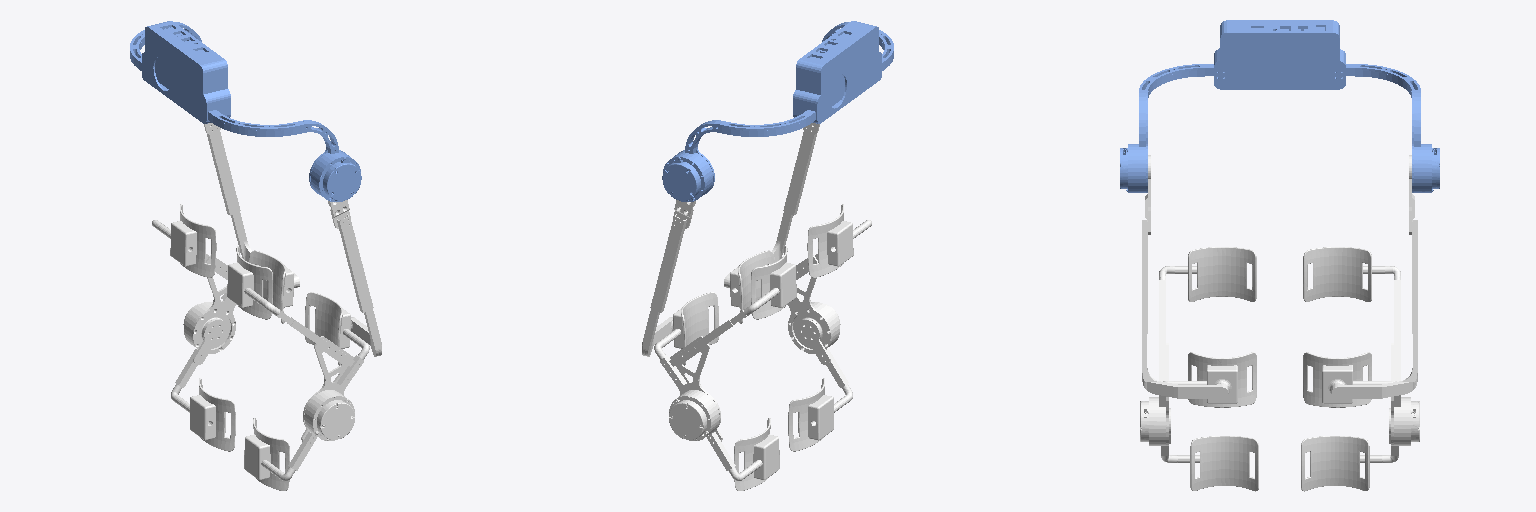
URDF robot description (G-exo):
<?xml version="1.0" encoding="utf-8"?>
<!-- This URDF was automatically created by SolidWorks to URDF Exporter! Originally created by Stephen Brawner (brawner@gmail.com) 
     Commit Version: 1.6.0-4-g7f85cfe  Build Version: 1.6.7995.38578
     For more information, please see http://wiki.ros.org/sw_urdf_exporter -->
<robot
  name="G-exo">
  <link
    name="base_link">
    <inertial>
      <origin
        xyz="0.0487751460332164 -0.00349905189190992 -0.043368079377932"
        rpy="0 0 0" />
      <mass
        value="1.31134816165551" />
      <inertia
        ixx="0.00319506452401314"
        ixy="1.91843589633937E-05"
        ixz="-6.00966650836024E-05"
        iyy="0.00142949470877883"
        iyz="1.7063494259796E-05"
        izz="0.00285361830142739" />
    </inertial>
    <visual>
      <origin
        xyz="0 0 0"
        rpy="0 0 0" />
      <geometry>
        <mesh
          filename="package://G-exo/meshes/base_link.STL" />
      </geometry>
      <material
        name="">
        <color
          rgba="0.611764705882353 0.756862745098039 1 1" />
      </material>
    </visual>
    <collision>
      <origin
        xyz="0 0 0"
        rpy="0 0 0" />
      <geometry>
        <mesh
          filename="package://G-exo/meshes/base_link.STL" />
      </geometry>
    </collision>
  </link>
  <link
    name="l_thigh">
    <inertial>
      <origin
        xyz="0.0106 -0.0363 -0.3525"
        rpy="0 0 0" />
      <mass
        value="0.777" />
      <inertia
        ixx="0.0134"
        ixy="-0.0002"
        ixz="0.0009"
        iyy="0.0137"
        iyz="0.001"
        izz="0.0038" />
    </inertial>
    <visual>
      <origin
        xyz="0 0 0"
        rpy="0 0 0" />
      <geometry>
        <mesh
          filename="package://G-exo/meshes/l_thigh.STL" />
      </geometry>
      <material
        name="">
        <color
          rgba="1 1 1 1" />
      </material>
    </visual>
    <collision>
      <origin
        xyz="0 0 0"
        rpy="0 0 0" />
      <geometry>
        <mesh
          filename="package://G-exo/meshes/l_thigh.STL" />
      </geometry>
    </collision>
  </link>
  <joint
    name="l_thigh_joint"
    type="revolute">
    <origin
      xyz="0.1475 0.21 -0.13"
      rpy="0 0 0" />
    <parent
      link="base_link" />
    <child
      link="l_thigh" />
    <axis
      xyz="0 1 0" />
    <!-- L Hip (axis +Y): + = extension, - = flexion. ROM: flex 90° ↔ ext 20° -->
    <!-- Anatomical ref: ext 10-15° active, flex 120-130°. Motor: rated 6 Nm, peak 17 Nm, 275 rpm -->
    <limit
      lower="-1.5708"
      upper="0.3491"
      effort="17"
      velocity="28.8" />
  </joint>
  <link
    name="l_calf">
    <inertial>
      <origin
        xyz="-0.059 -0.0634 -0.0846"
        rpy="0 0 0" />
      <mass
        value="0.1165" />
      <inertia
        ixx="0.0004"
        ixy="-0.0001"
        ixz="-0.0001"
        iyy="0.0002"
        iyz="-0.0001"
        izz="0.0003" />
    </inertial>
    <visual>
      <origin
        xyz="0 0 0"
        rpy="0 0 0" />
      <geometry>
        <mesh
          filename="package://G-exo/meshes/l_calf.STL" />
      </geometry>
      <material
        name="">
        <color
          rgba="1 1 1 1" />
      </material>
    </visual>
    <collision>
      <origin
        xyz="0 0 0"
        rpy="0 0 0" />
      <geometry>
        <mesh
          filename="package://G-exo/meshes/l_calf.STL" />
      </geometry>
    </collision>
  </link>
  <joint
    name="l_calf_joint"
    type="revolute">
    <origin
      xyz="0.0073951 -0.033143 -0.44134"
      rpy="0 0 0" />
    <parent
      link="l_thigh" />
    <child
      link="l_calf" />
    <axis
      xyz="0 1 0" />
    <!-- L Knee (axis +Y): + = flexion, - = extension. ROM: neutral 0° ↔ flex 110° -->
    <!-- Anatomical ref: flex 120-140° active. Motor: rated 6 Nm, peak 17 Nm, 275 rpm -->
    <limit
      lower="0"
      upper="1.9199"
      effort="17"
      velocity="28.8" />
  </joint>
  <link
    name="r_thigh">
    <inertial>
      <origin
        xyz="0.0106 0.0363 -0.3525"
        rpy="0 0 0" />
      <mass
        value="0.777" />
      <inertia
        ixx="0.0134"
        ixy="0.0002"
        ixz="0.0009"
        iyy="0.0137"
        iyz="-0.001"
        izz="0.0038" />
    </inertial>
    <visual>
      <origin
        xyz="0 0 0"
        rpy="0 0 0" />
      <geometry>
        <mesh
          filename="package://G-exo/meshes/r_thigh.STL" />
      </geometry>
      <material
        name="">
        <color
          rgba="1 1 1 1" />
      </material>
    </visual>
    <collision>
      <origin
        xyz="0 0 0"
        rpy="0 0 0" />
      <geometry>
        <mesh
          filename="package://G-exo/meshes/r_thigh.STL" />
      </geometry>
    </collision>
  </link>
  <joint
    name="r_thigh_joint"
    type="revolute">
    <origin
      xyz="0.1475 -0.21 -0.13"
      rpy="0 0 0" />
    <parent
      link="base_link" />
    <child
      link="r_thigh" />
    <axis
      xyz="0 -1 0" />
    <!-- R Hip (axis -Y): + = flexion, - = extension. ROM: ext 20° ↔ flex 90° -->
    <!-- Anatomical ref: ext 10-15° active, flex 120-130°. Motor: rated 6 Nm, peak 17 Nm, 275 rpm -->
    <limit
      lower="-0.3491"
      upper="1.5708"
      effort="17"
      velocity="28.8" />
  </joint>
  <link
    name="r_calf">
    <inertial>
      <origin
        xyz="-0.059 0.0634 -0.0846"
        rpy="0 0 0" />
      <mass
        value="0.1165" />
      <inertia
        ixx="0.0004"
        ixy="0.0001"
        ixz="-0.0001"
        iyy="0.0002"
        iyz="0.0001"
        izz="0.0003" />
    </inertial>
    <visual>
      <origin
        xyz="0 0 0"
        rpy="0 0 0" />
      <geometry>
        <mesh
          filename="package://G-exo/meshes/r_calf.STL" />
      </geometry>
      <material
        name="">
        <color
          rgba="1 1 1 1" />
      </material>
    </visual>
    <collision>
      <origin
        xyz="0 0 0"
        rpy="0 0 0" />
      <geometry>
        <mesh
          filename="package://G-exo/meshes/r_calf.STL" />
      </geometry>
    </collision>
  </link>
  <joint
    name="r_calf_joint"
    type="revolute">
    <origin
      xyz="0.0073951 0.033143 -0.44134"
      rpy="0 0 0" />
    <parent
      link="r_thigh" />
    <child
      link="r_calf" />
    <axis
      xyz="0 -1 0" />
    <!-- R Knee (axis -Y): + = extension, - = flexion. ROM: flex 110° ↔ neutral 0° -->
    <!-- Anatomical ref: flex 120-140° active. Motor: rated 6 Nm, peak 17 Nm, 275 rpm -->
    <limit
      lower="-1.9199"
      upper="0"
      effort="17"
      velocity="28.8" />
  </joint>
</robot>

--- Render facts (derived) ---
3 views of the same robot in one strip: view 1: azimuth 30°, elevation 25°; view 2: azimuth 150°, elevation 25°; view 3: azimuth 270°, elevation 25° (orthographic).
Robot: G-exo — 5 links, 4 joints (4 revolute); root link base_link; default pose: every joint at zero.
Links seen in each view (by area): view 1: r_thigh, base_link, l_thigh, l_calf, r_calf; view 2: l_thigh, base_link, r_thigh, r_calf, l_calf; view 3: base_link, l_thigh, r_thigh, l_calf, r_calf.
Link boxes in pixels (x1,y1,x2,y2): r_thigh: [227, 200, 381, 440]; base_link: [130, 21, 361, 201]; l_thigh: [152, 123, 299, 353]; l_calf: [171, 319, 235, 451]; r_calf: [244, 418, 316, 490]; l_thigh: [642, 200, 796, 440]; base_link: [662, 21, 893, 201]; r_thigh: [724, 123, 871, 353]; r_calf: [788, 319, 852, 451]; l_calf: [707, 418, 779, 490]; base_link: [1120, 20, 1439, 192]; l_thigh: [1303, 155, 1419, 445]; r_thigh: [1140, 155, 1256, 445]; l_calf: [1301, 408, 1398, 491]; r_calf: [1161, 408, 1258, 491].
Bounding box of the posed robot: 0.2835 × 0.5108 × 0.7682 m (x, y, z).
5 mesh visuals loaded from 5 distinct referenced files (5 binary STL).
